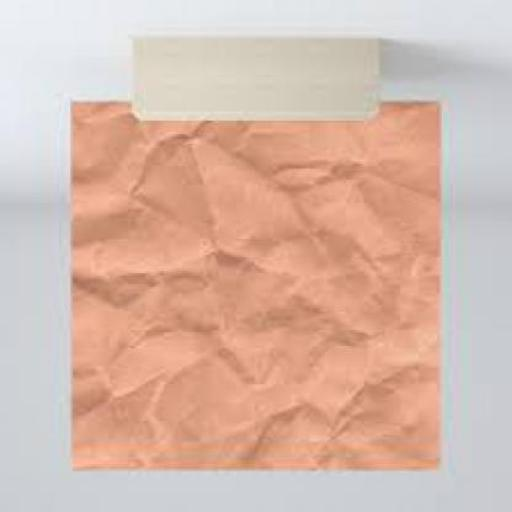paper: (66, 102, 441, 476)
